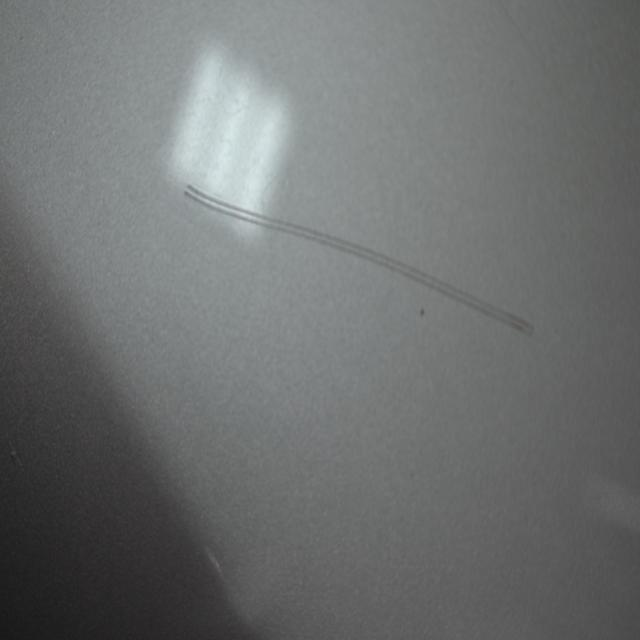dirt: (419, 301, 428, 322)
scratch: (183, 179, 540, 347)
